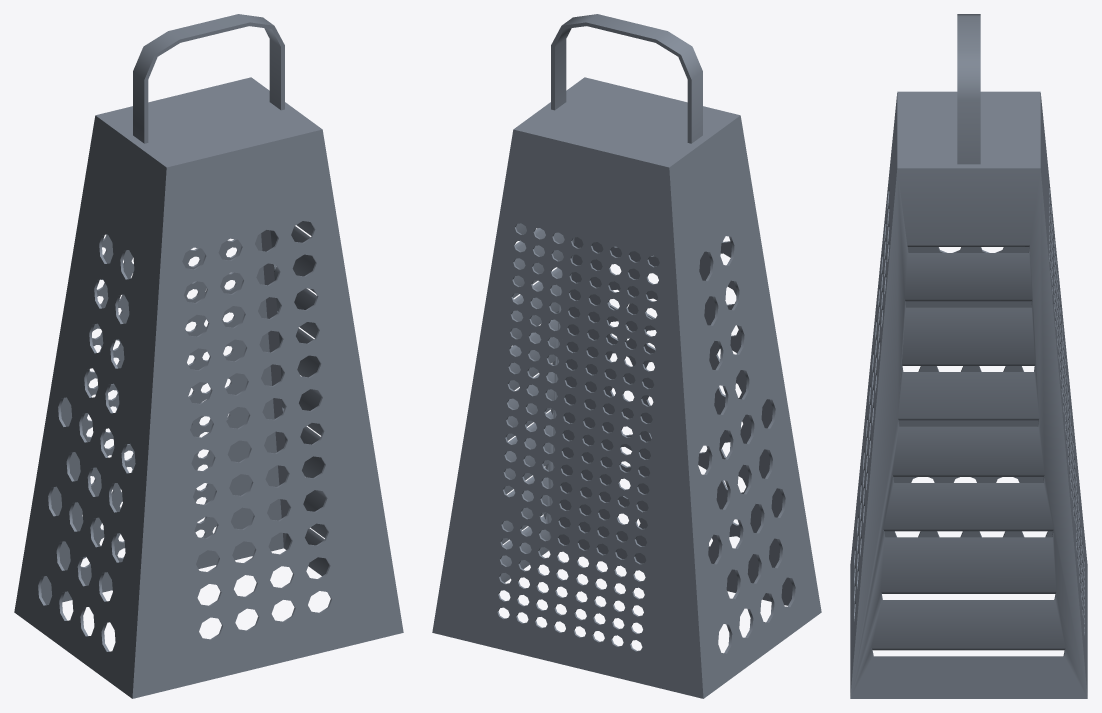
The model's file is Box Grater.glb.
The picture shows the model from 3 angles, left to right: view 1: azimuth 30°, elevation 25°; view 2: azimuth 150°, elevation 25°; view 3: azimuth 270°, elevation 25°; orthographic projection.
Visible parts, largest first — view 1: cutensils_box_grater_Cube.132; view 2: cutensils_box_grater_Cube.132; view 3: cutensils_box_grater_Cube.132.
Part boxes in pixels (x1,y1,x2,y2): cutensils_box_grater_Cube.132: (14,14,403,698); cutensils_box_grater_Cube.132: (432,14,821,698); cutensils_box_grater_Cube.132: (850,14,1087,698).
Bounding box in the file's own units: 2.59 × 5.44 × 1.95.
Materials: 1 (1 with a texture image).
